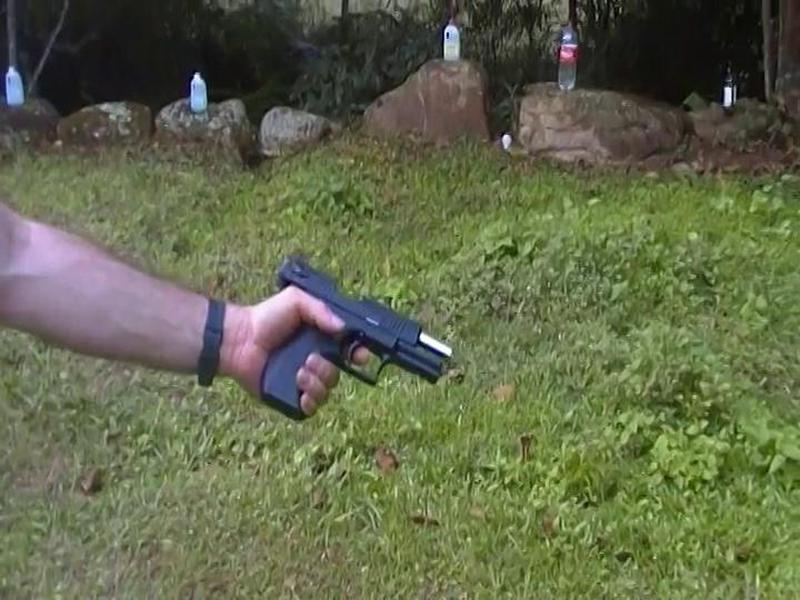Pistola: (237, 231, 488, 443)
